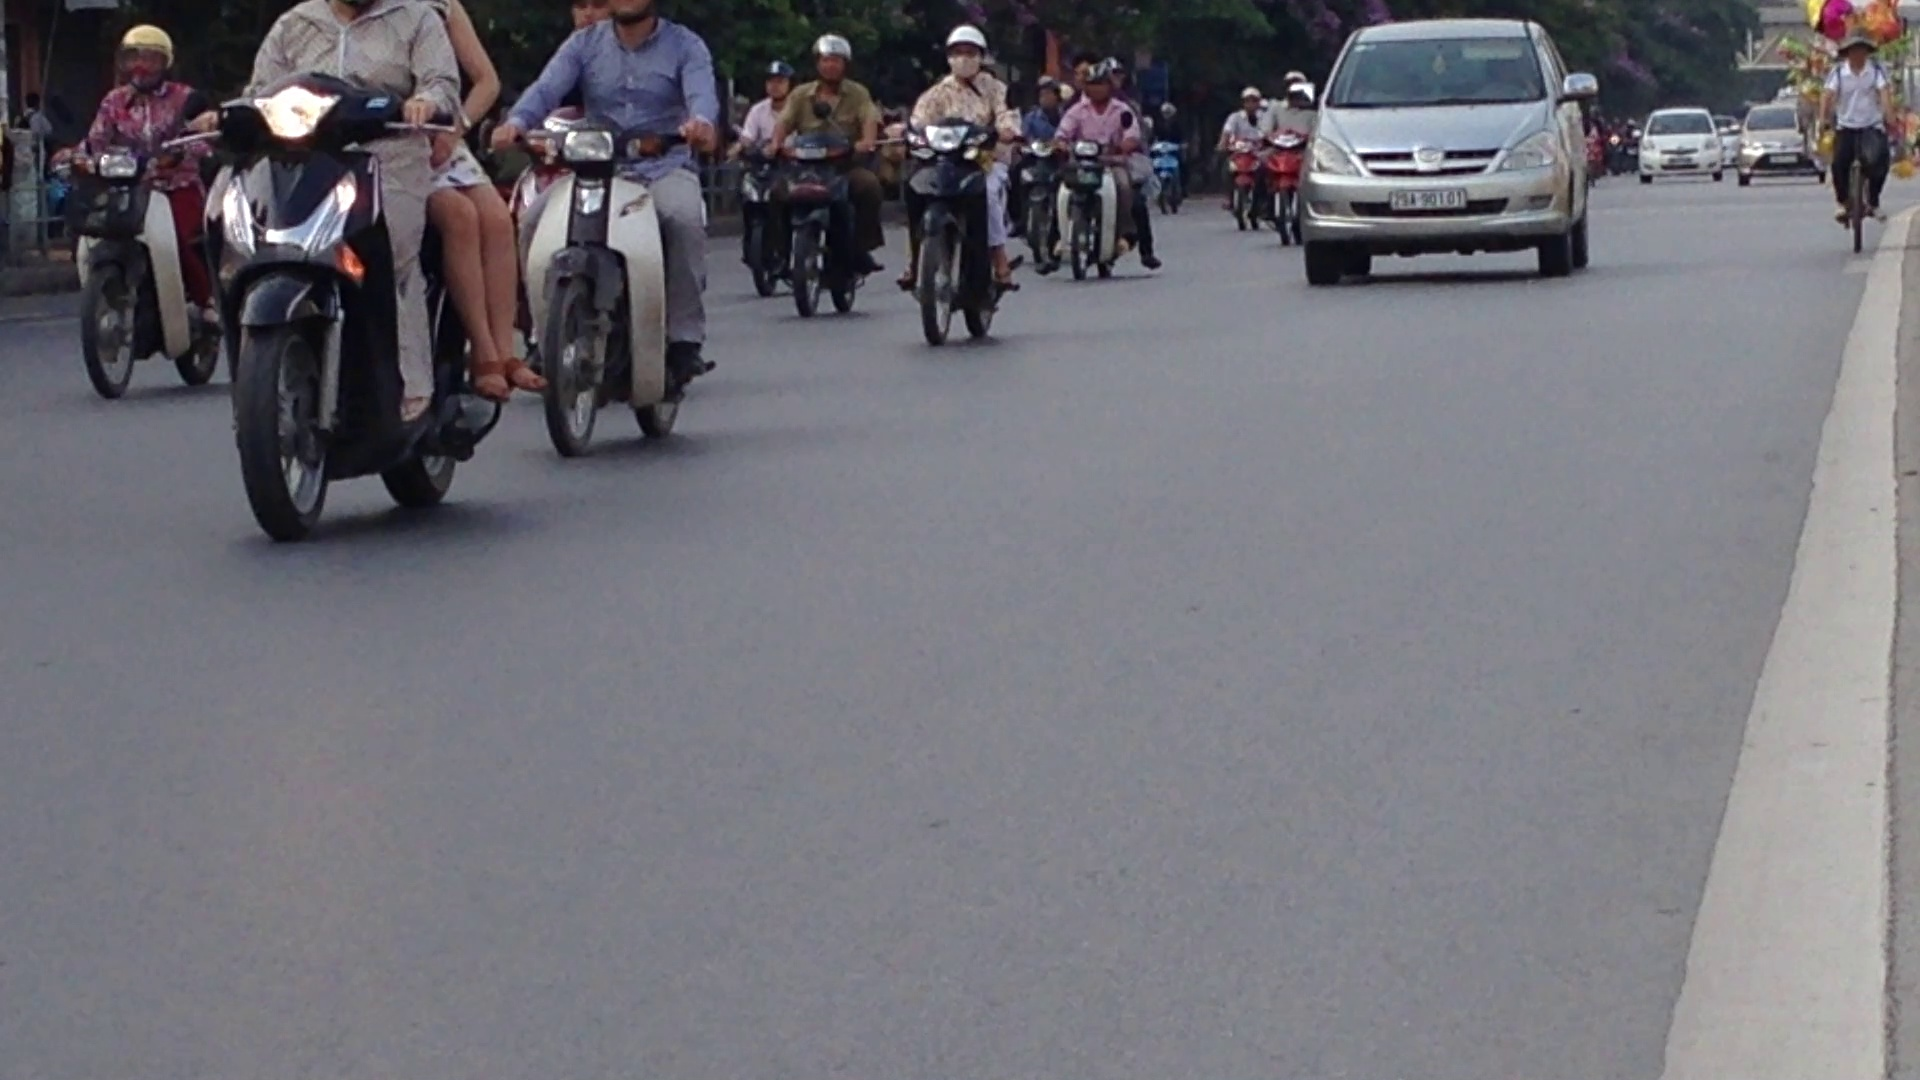vehicle-plate: (1387, 178, 1473, 213)
